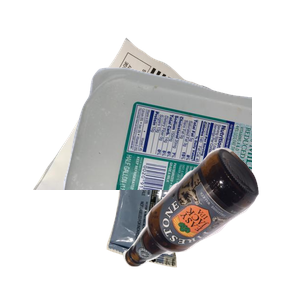glass: (120, 145, 300, 300)
paper: (31, 35, 271, 215)
plastic: (60, 65, 300, 245)
trash: (104, 152, 280, 300)
